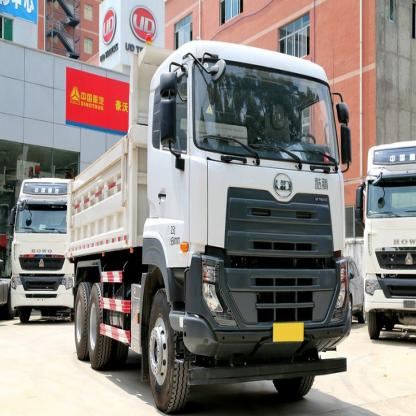dump_truck: (65, 28, 356, 412), (359, 130, 415, 352), (6, 157, 71, 324)
